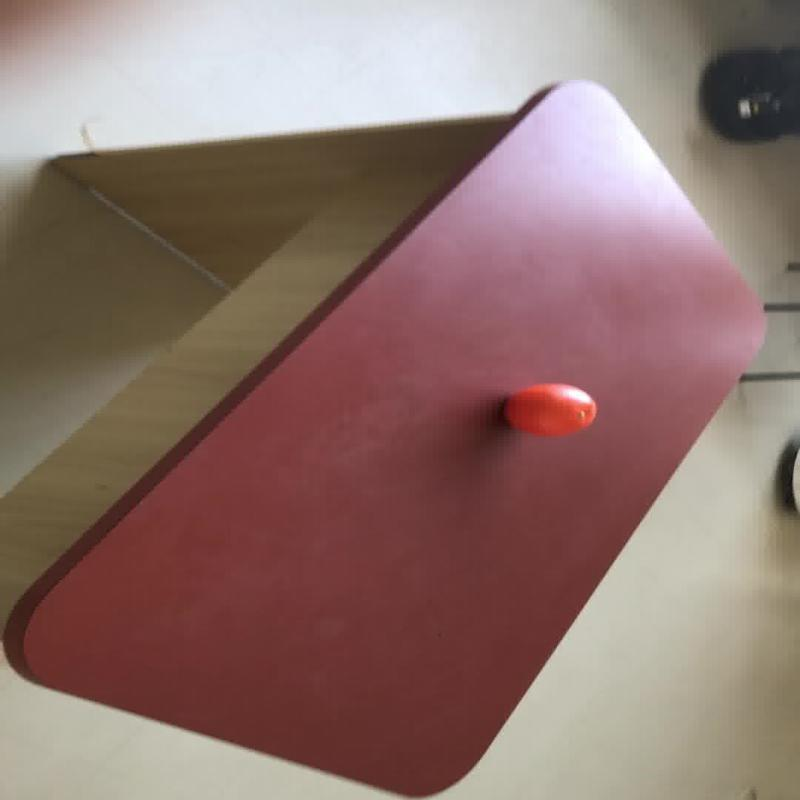orange: (501, 382, 596, 436)
